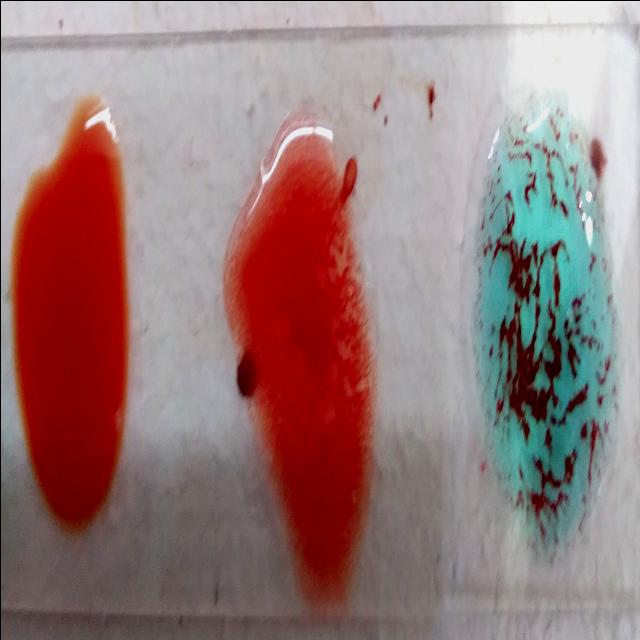A: (484, 70, 617, 558)
D: (233, 102, 372, 600)
